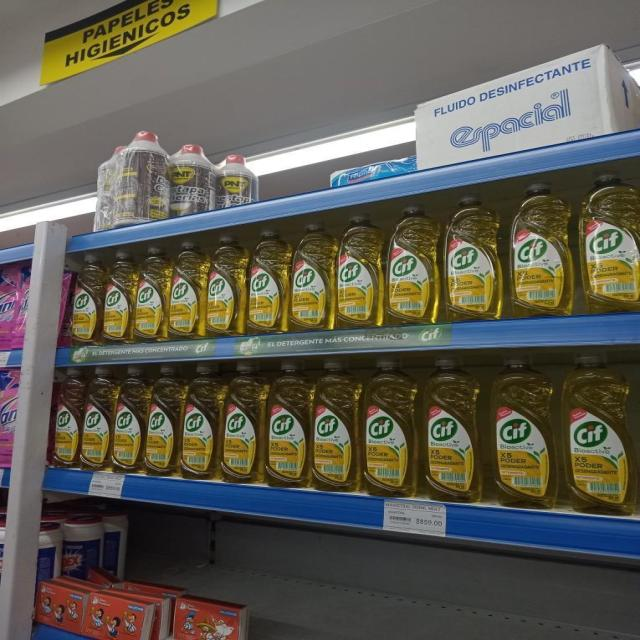ala_crem_blanco: (0, 500, 15, 640)
cif_conc_bot_amarilla: (560, 349, 633, 516), (486, 353, 555, 508), (508, 180, 574, 317), (580, 170, 640, 314), (422, 354, 479, 501), (363, 356, 418, 496), (444, 194, 503, 321), (386, 203, 440, 324), (313, 358, 360, 492), (267, 358, 310, 488), (336, 211, 383, 328), (223, 359, 266, 484), (291, 220, 334, 331), (183, 362, 222, 481), (248, 227, 289, 334), (207, 233, 246, 337), (147, 363, 181, 476), (170, 239, 206, 340), (114, 364, 146, 474), (135, 245, 168, 343), (82, 365, 112, 471), (52, 367, 81, 469), (71, 254, 102, 346), (104, 250, 134, 344)
